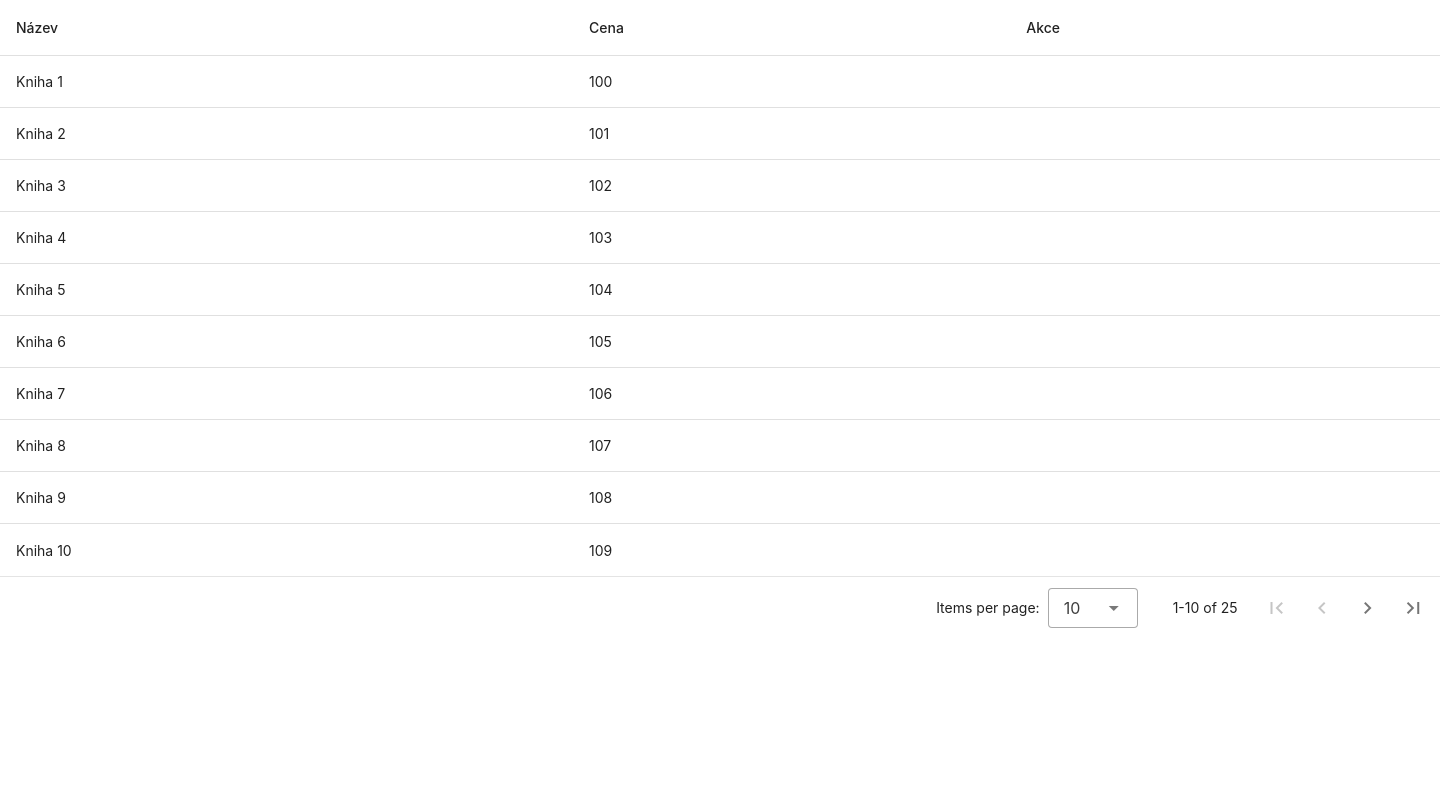
Test case: AdminTable › offers 10, 20 and 50 rows per page
The width and height of the screenshot is (1440, 810).
Press the mouse on the dropdown labelled "10" at (1093, 608), box [1048,588,1138,628]
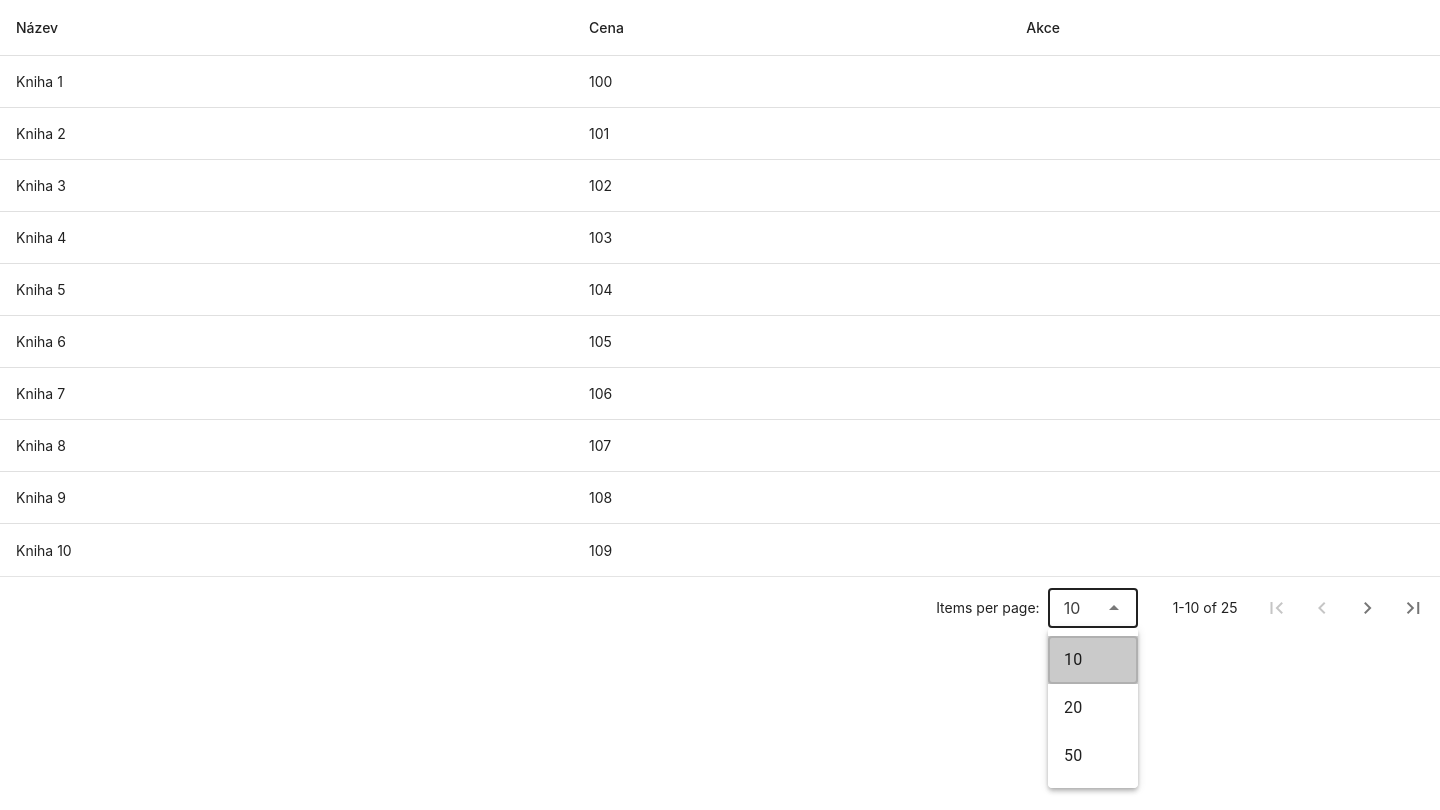
Result: the number of options is 3 at [1048,636,1138,684]; [1048,684,1138,732]; [1048,732,1138,780]
